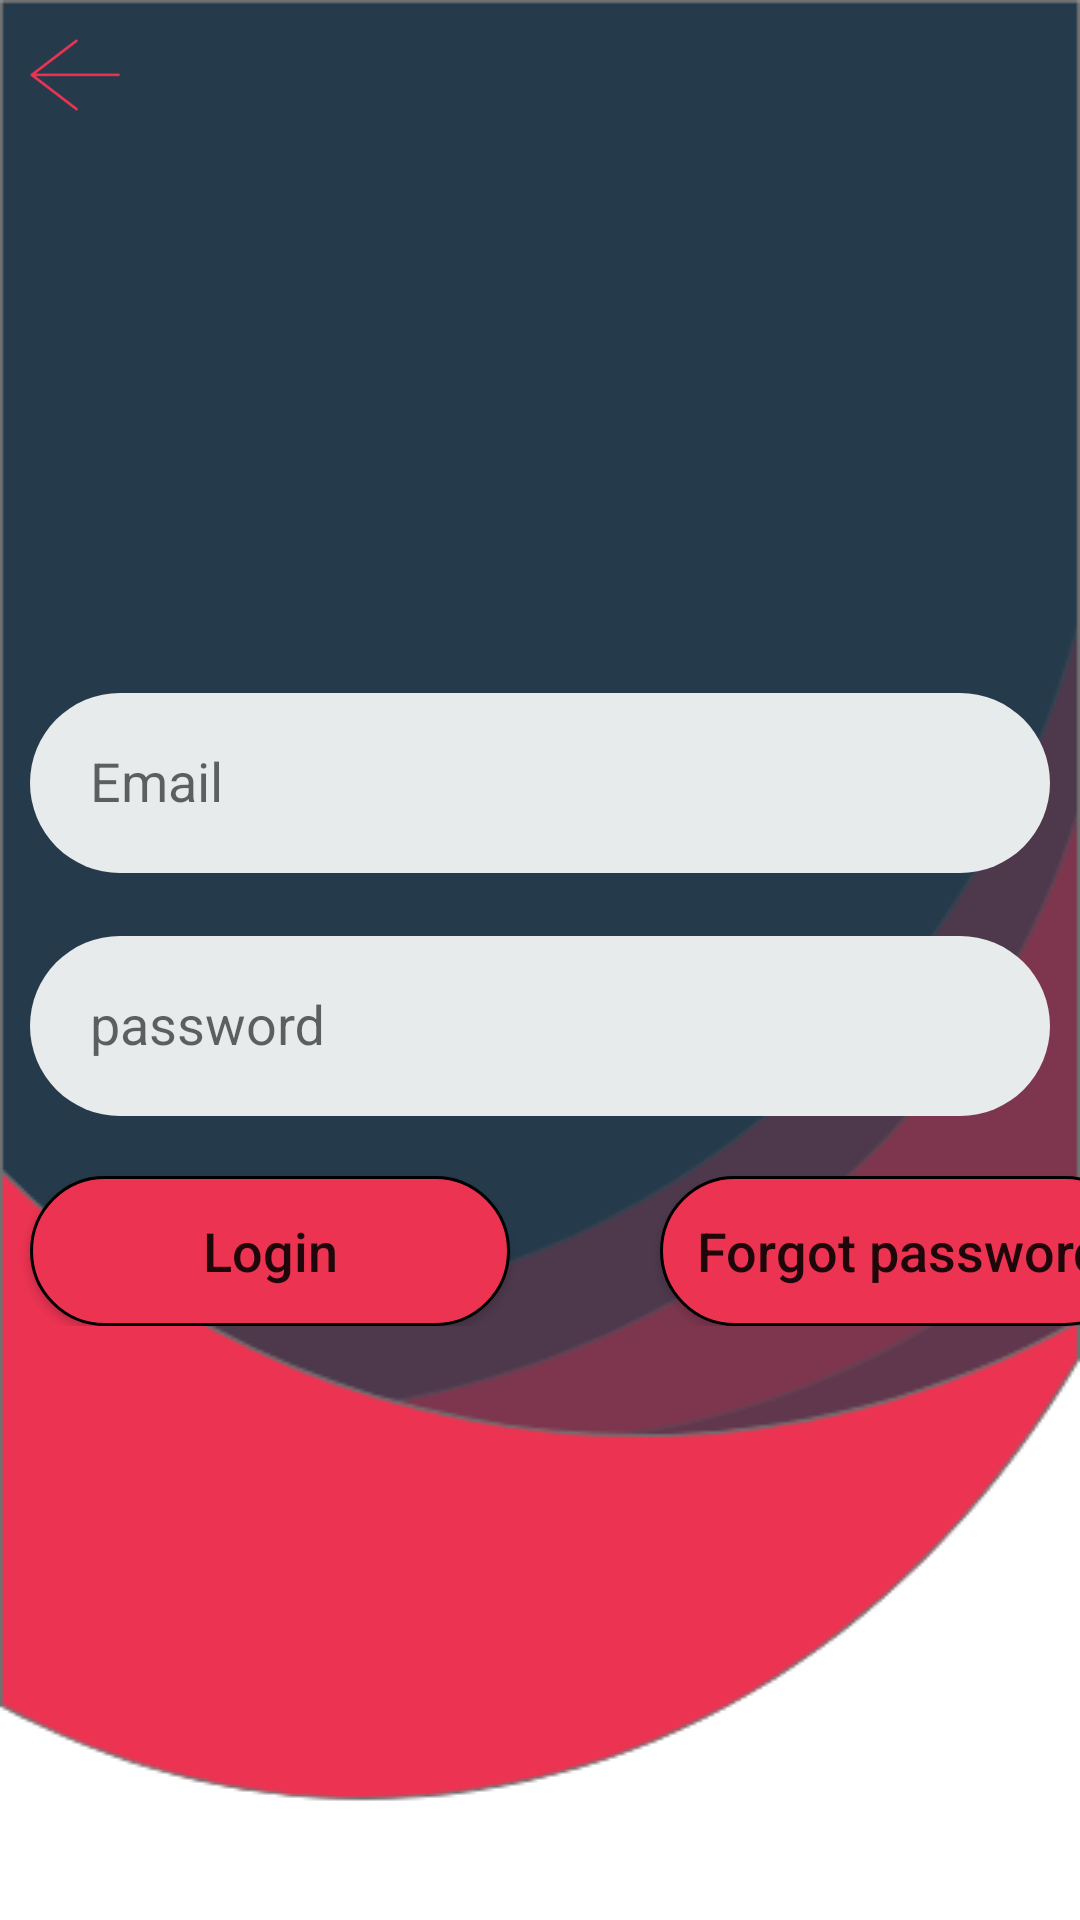

Screen size 1080x1920. Icon name, then its center in pixels as point (x, y):
back: point (75, 75)
